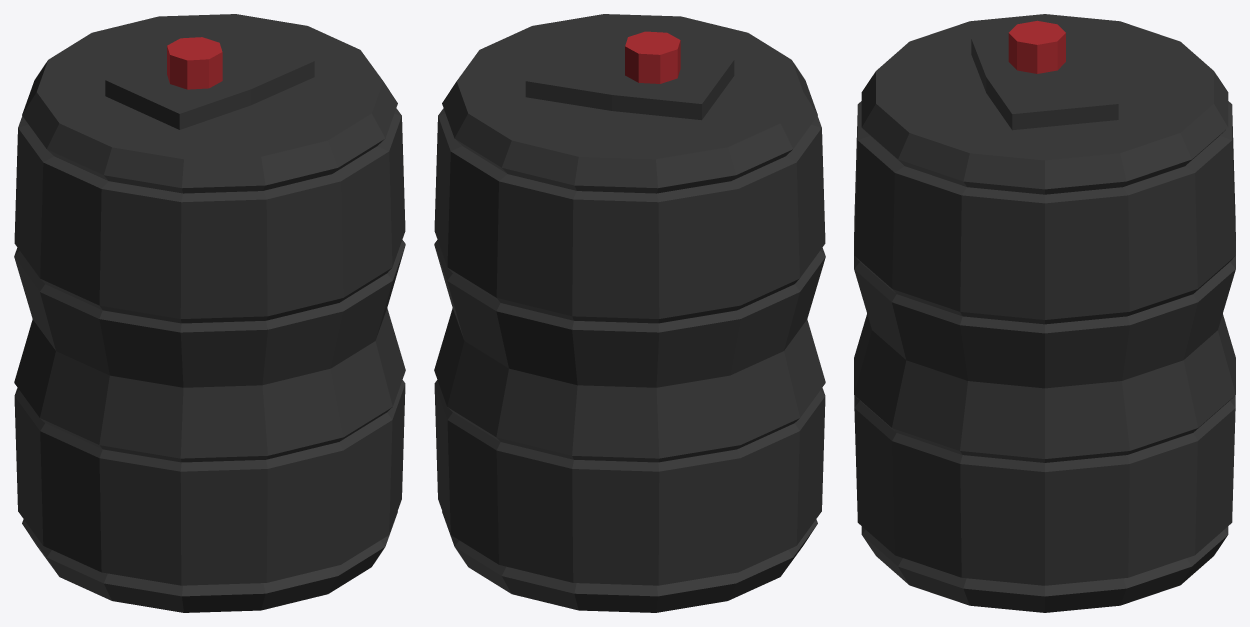
Rendered from SM_large_round_container.fbx.
The picture shows the model from 3 angles, left to right: view 1: azimuth 30°, elevation 25°; view 2: azimuth 150°, elevation 25°; view 3: azimuth 270°, elevation 25°; orthographic projection.
Parts seen in each view (by area): view 1: large_round_container; view 2: large_round_container; view 3: large_round_container.
Boxes of the visible parts, left/top/right/bottom form: large_round_container: left=14, top=14, right=405, bottom=612; large_round_container: left=434, top=14, right=825, bottom=612; large_round_container: left=854, top=14, right=1235, bottom=612.
Bounding box in the file's own units: 104 × 146 × 102.
